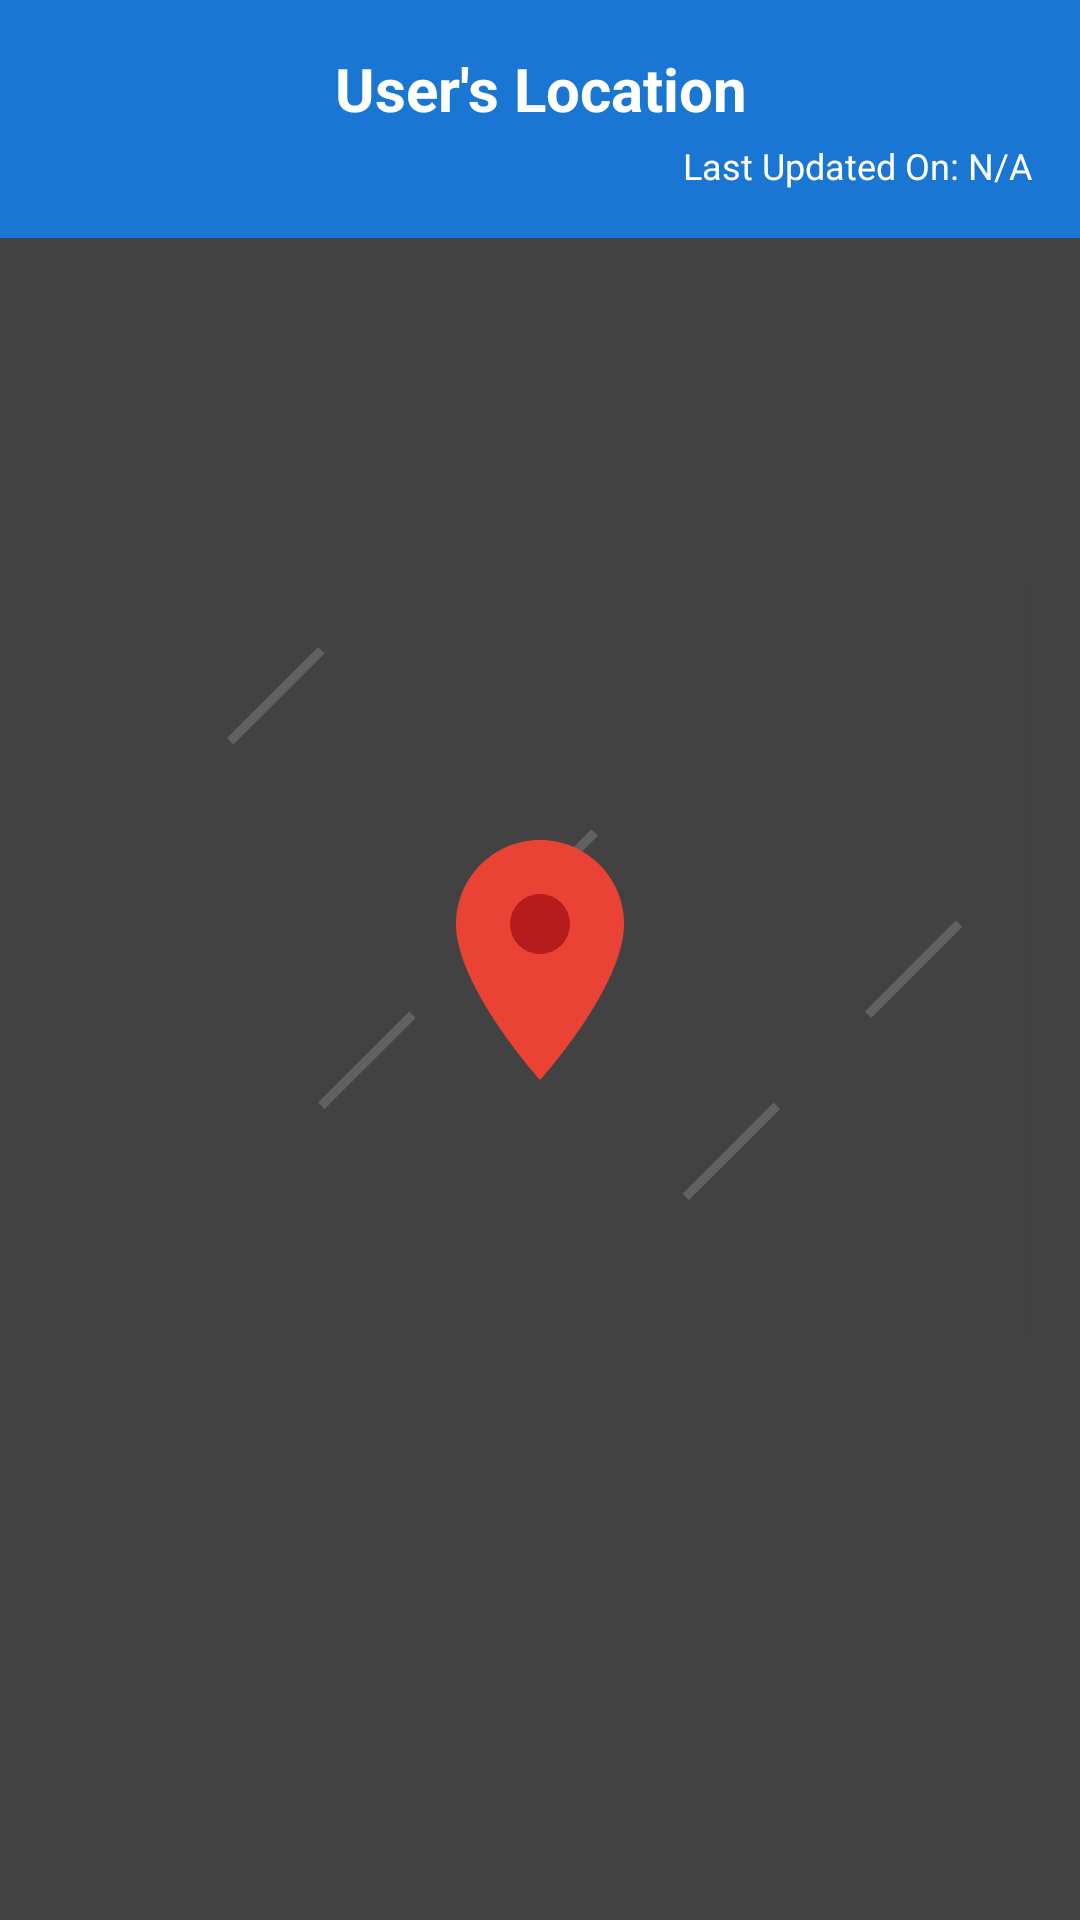

Named icons in this screenshot (1080*1920) and their bounding boxes, {"x1": x1, "y1": y1, "x2": x2, "y2": y2}:
location pin: {"x1": 456, "y1": 830, "x2": 624, "y2": 1080}
